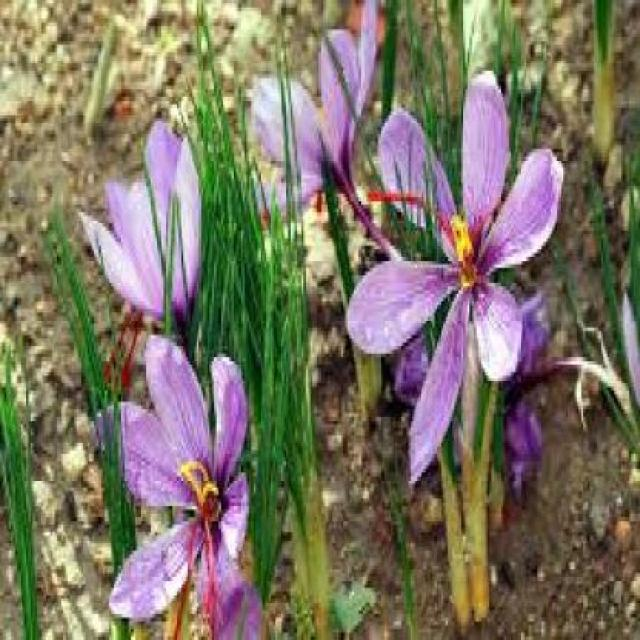Flower: (349, 72, 562, 477), (88, 341, 262, 639), (242, 0, 376, 234), (75, 123, 210, 337)
stigma: (173, 527, 197, 640), (200, 526, 218, 640), (364, 184, 419, 210)
